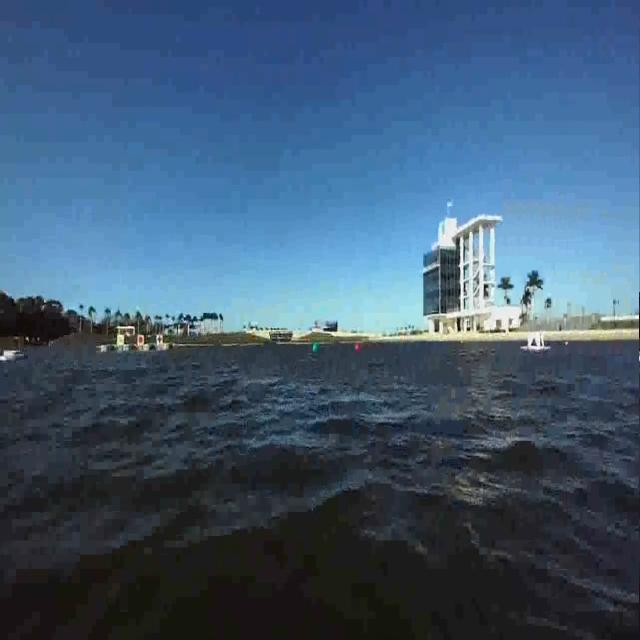green-buoy: (313, 342, 320, 354)
